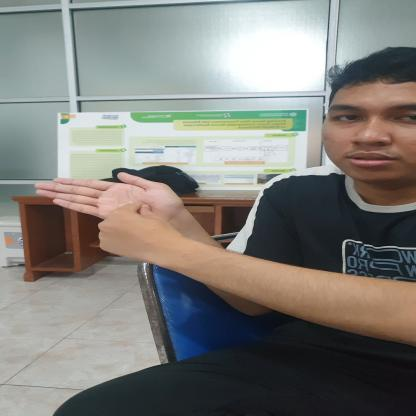Nama: (13, 156, 253, 270)
